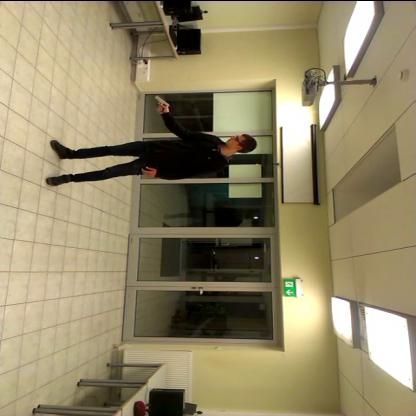Pistol: (146, 90, 176, 113)
